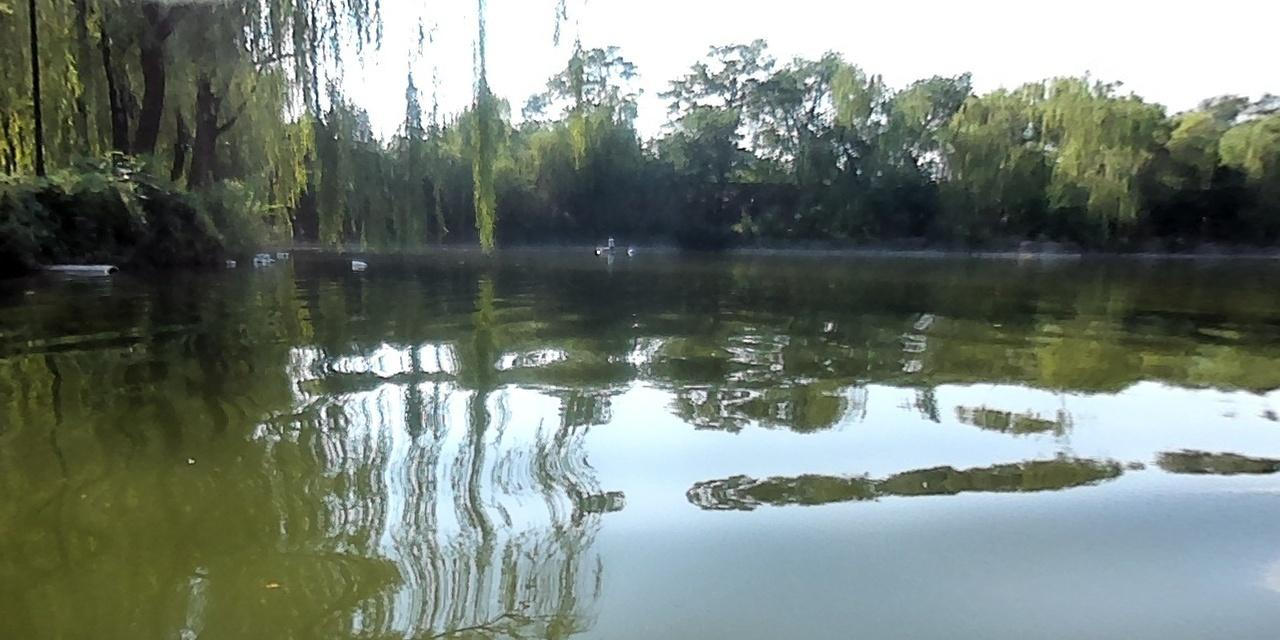bottle: (350, 259, 366, 270), (223, 258, 233, 265)
